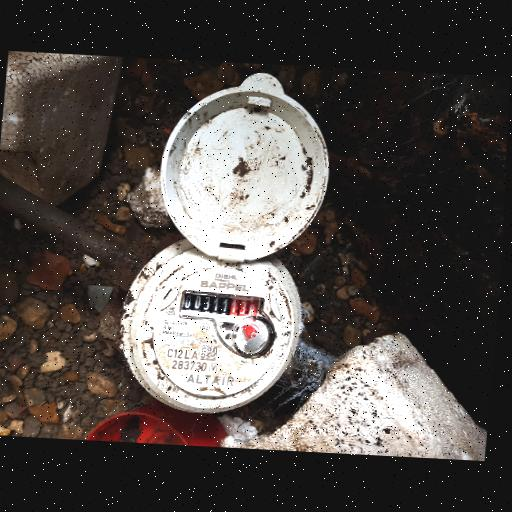0: (182, 293, 194, 311), (192, 294, 203, 312)
1: (211, 295, 221, 314), (220, 297, 230, 315), (229, 299, 239, 317)
3: (202, 295, 213, 313), (238, 299, 248, 317)
8: (247, 300, 257, 317)
border_water_meter_number: (178, 289, 266, 327)
